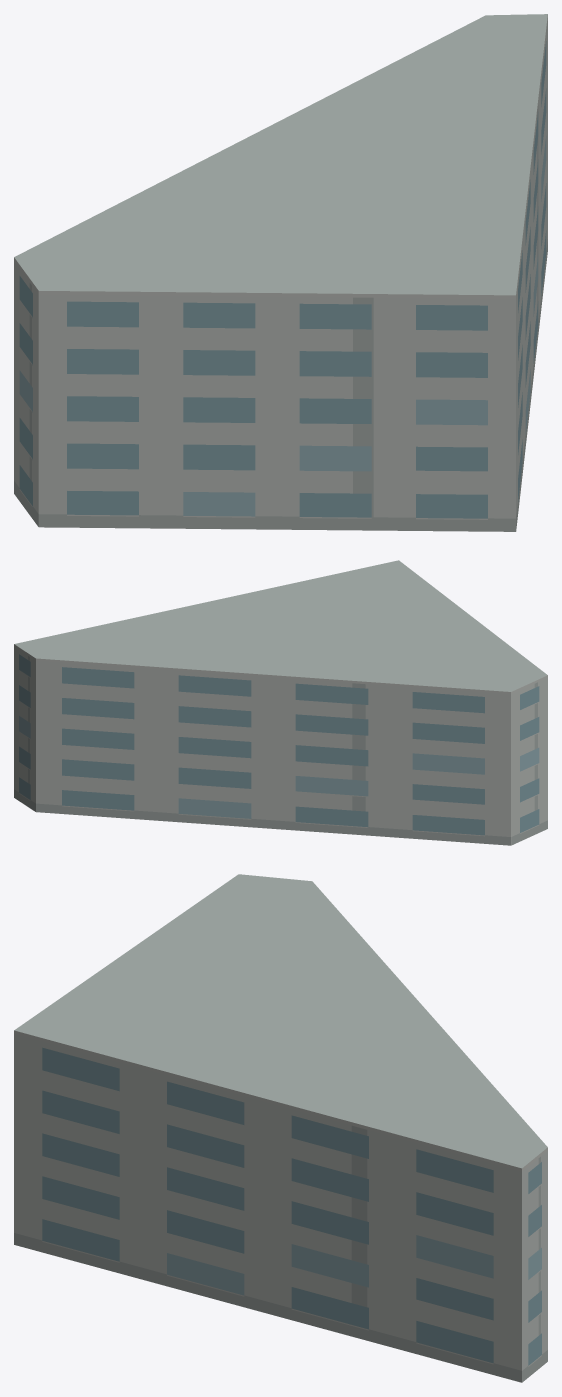
Rendered from residential-6ebcebcf-bd4a-4405-967a-488b6000ec4b.glb.
3 renders of one model, top to bottom at view 1: azimuth 30°, elevation 25°; view 2: azimuth 150°, elevation 25°; view 3: azimuth 270°, elevation 25°, orthographic. The views are drawn at different scales.
Visible parts, largest first — view 1: residential-6ebcebcf-bd4a-4405-967a-488b6000ec4b.tmp; view 2: residential-6ebcebcf-bd4a-4405-967a-488b6000ec4b.tmp; view 3: residential-6ebcebcf-bd4a-4405-967a-488b6000ec4b.tmp.
Part boxes in pixels (left/top/right/bottom): residential-6ebcebcf-bd4a-4405-967a-488b6000ec4b.tmp: left=14, top=14, right=547, bottom=531; residential-6ebcebcf-bd4a-4405-967a-488b6000ec4b.tmp: left=14, top=560, right=547, bottom=845; residential-6ebcebcf-bd4a-4405-967a-488b6000ec4b.tmp: left=14, top=874, right=547, bottom=1382.
Size of the model in its own units: 44.91 by 15.25 by 34.43.
